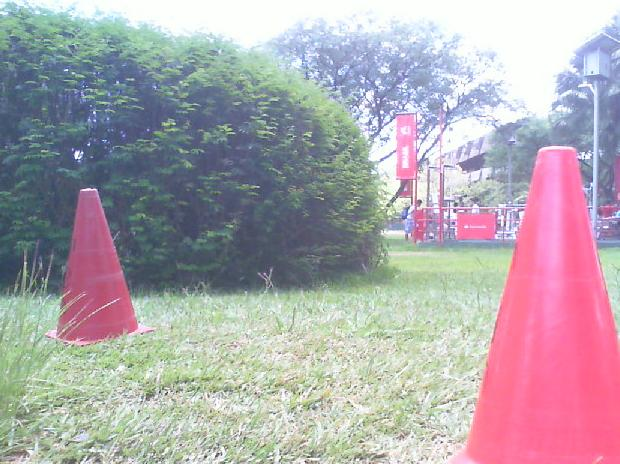0 cone: (443, 146, 620, 464), (43, 188, 158, 346)
